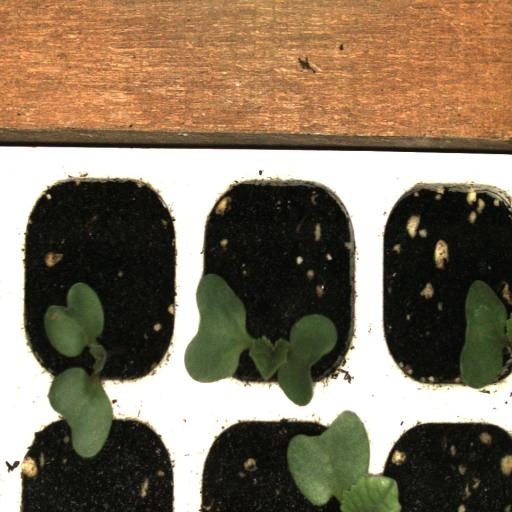Folha: (44, 282, 112, 459), (287, 413, 402, 512), (460, 280, 512, 390)
Germinacao: (190, 164, 372, 400), (14, 160, 186, 400)
